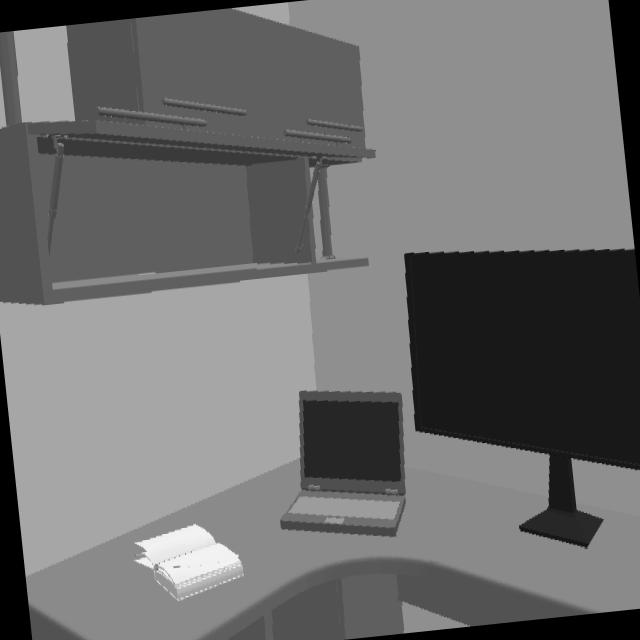book: (134, 524, 244, 602)
cabinet: (0, 8, 375, 304)
laptop: (279, 391, 407, 539)
monitor: (403, 249, 640, 547)
table: (27, 460, 640, 640)
